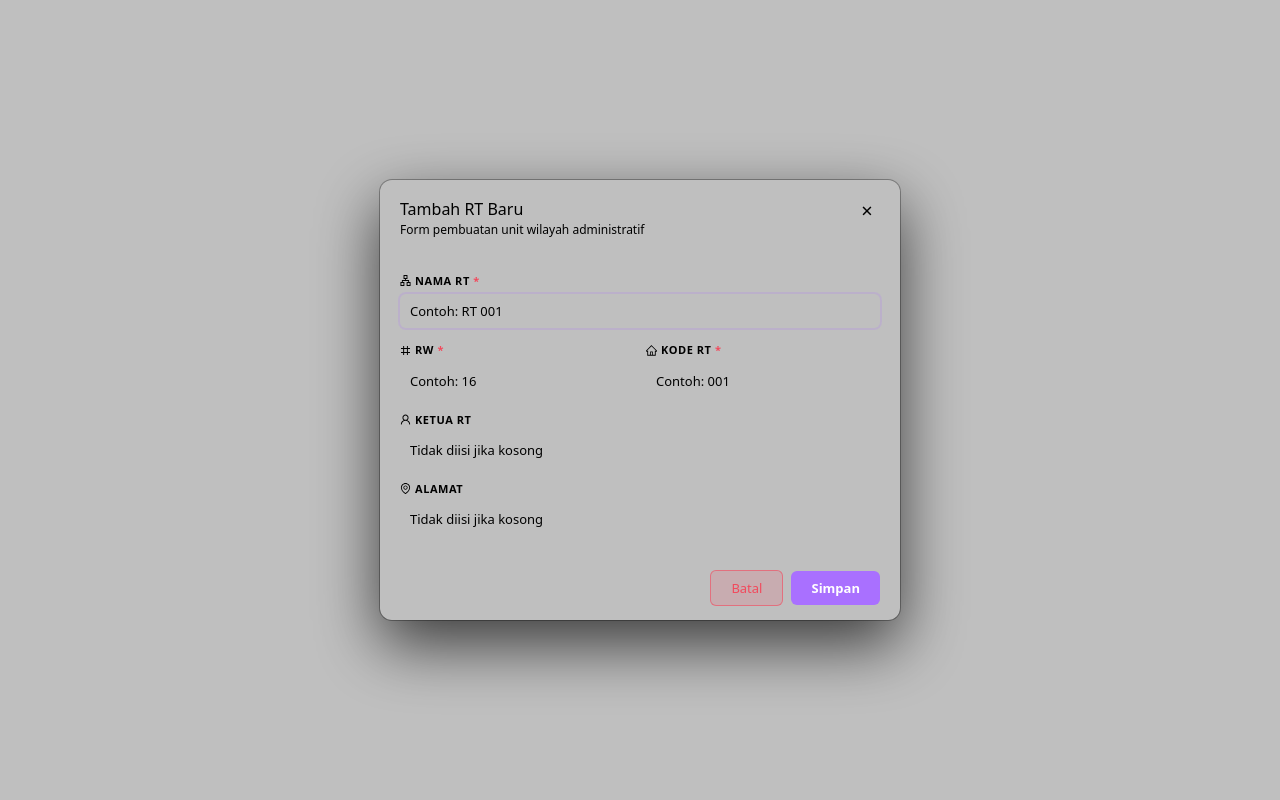
Test: W3.3 — RtCreate form rendering › shows error message from API on 400 validation error
Step 1. Type "RT 001" into the field labelled "Nama RT *" → {"x": 640, "y": 311}, box [400,294,880,328]
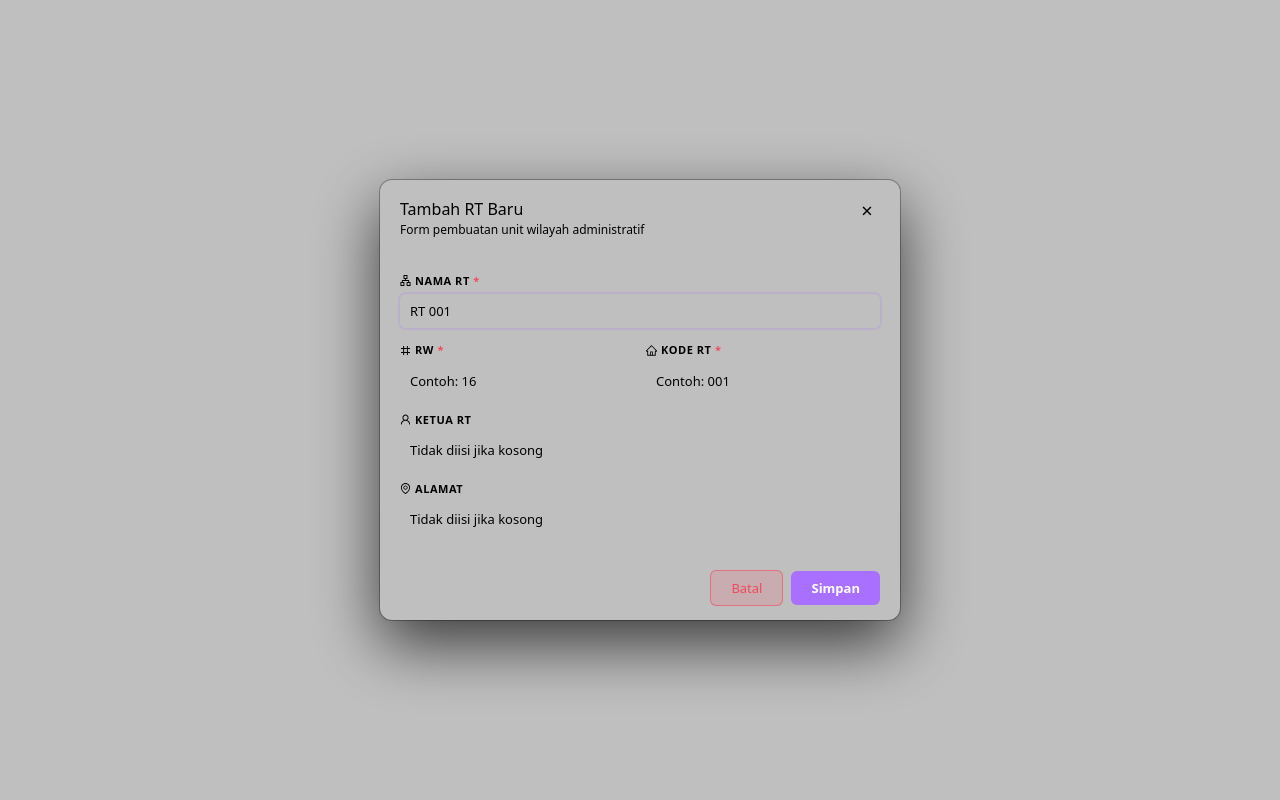
Step 2. Type "1" into the number field labelled "RW *" → {"x": 517, "y": 381}, box [400,364,634,398]
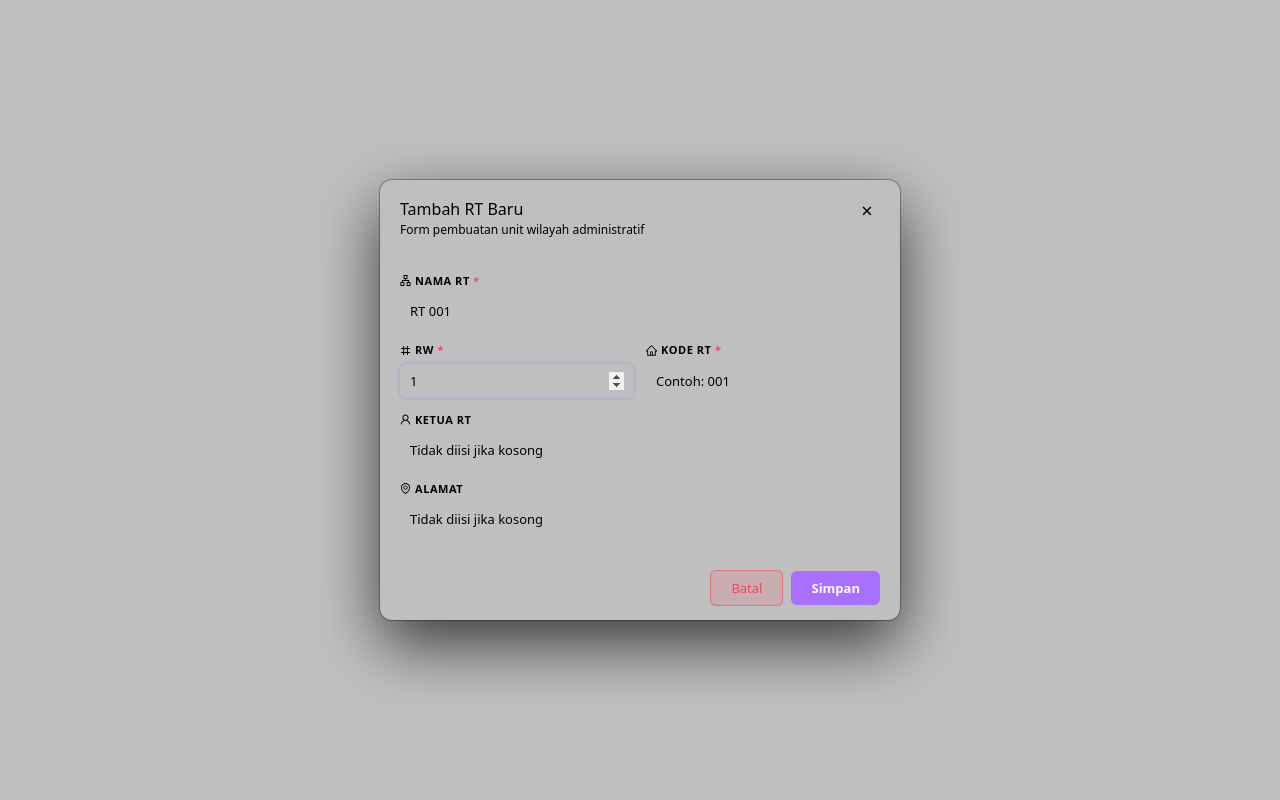
Step 3. Type "001" into the field labelled "Kode RT *" → {"x": 763, "y": 381}, box [646,364,880,398]
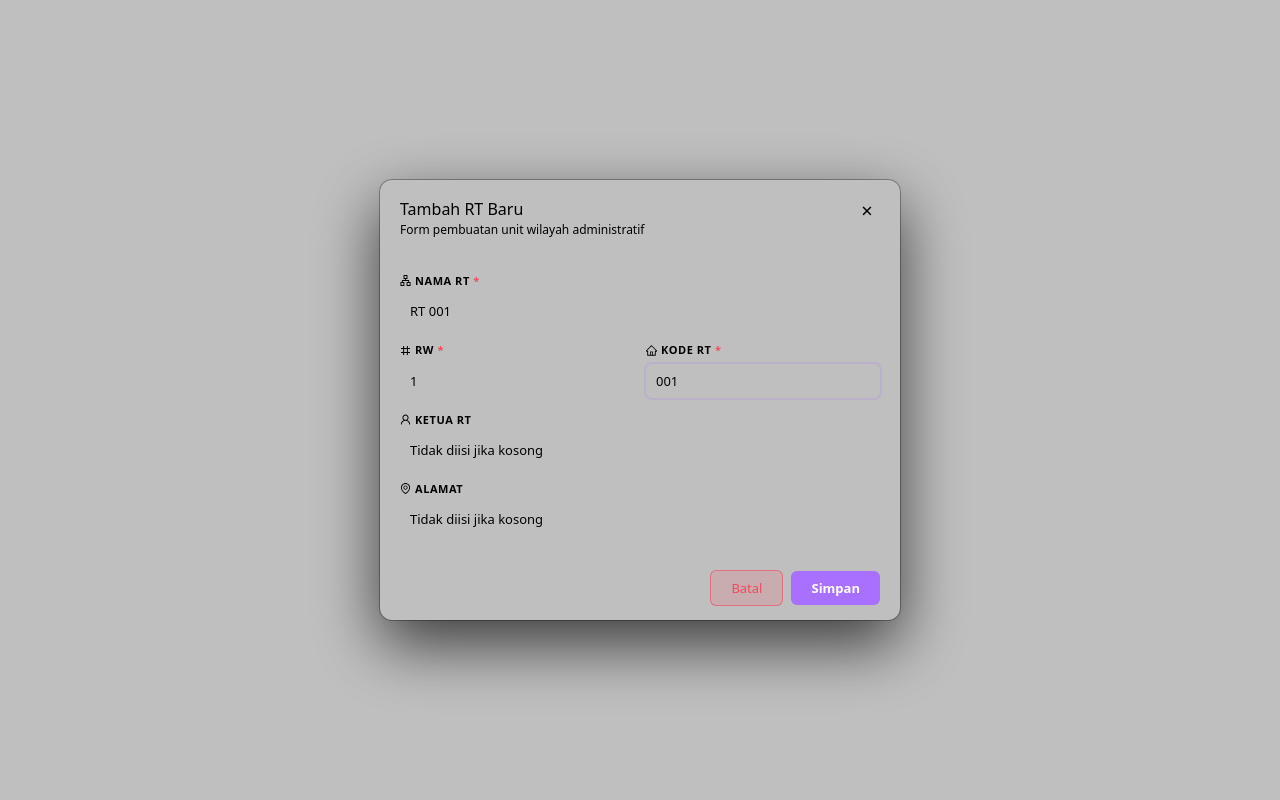
Step 4. Click the button "Simpan" → {"x": 836, "y": 588}, box [792,571,880,605]
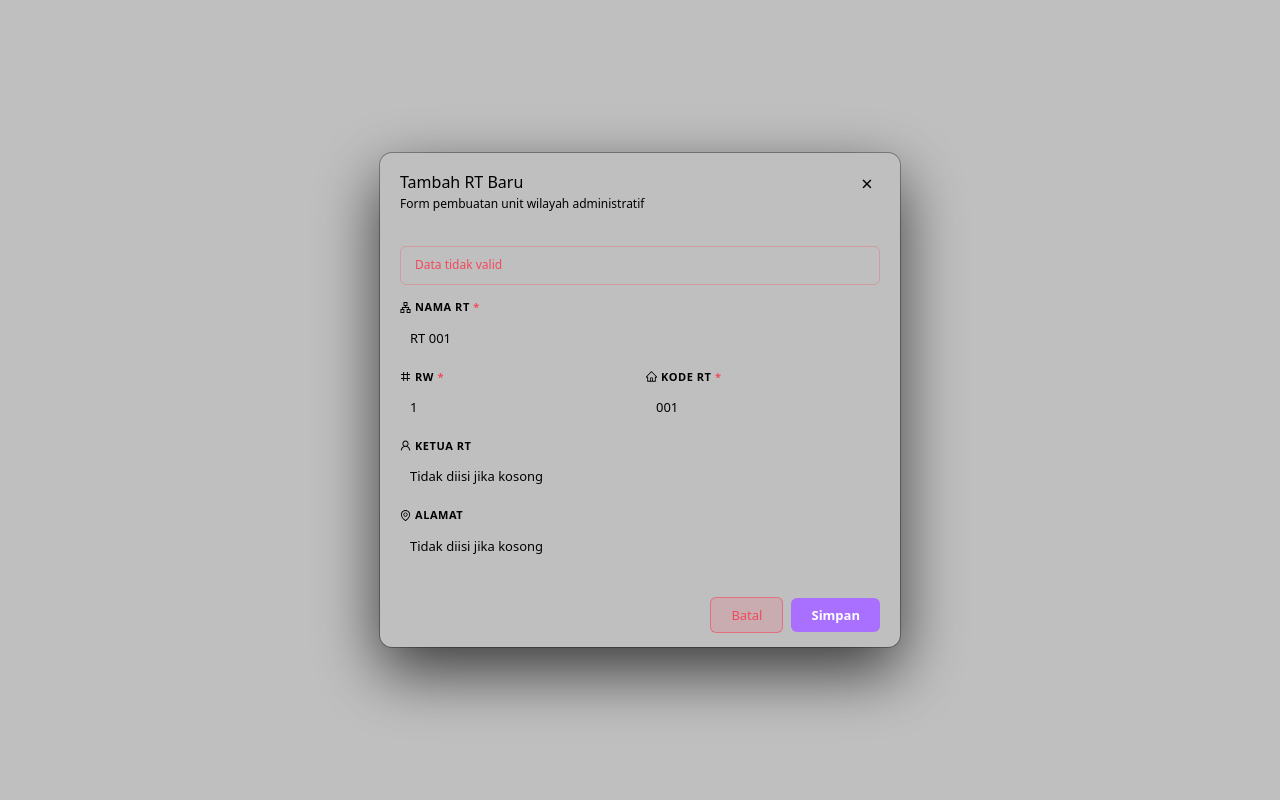
Result: the text "Data tidak valid" is shown at [400,246,880,285]
